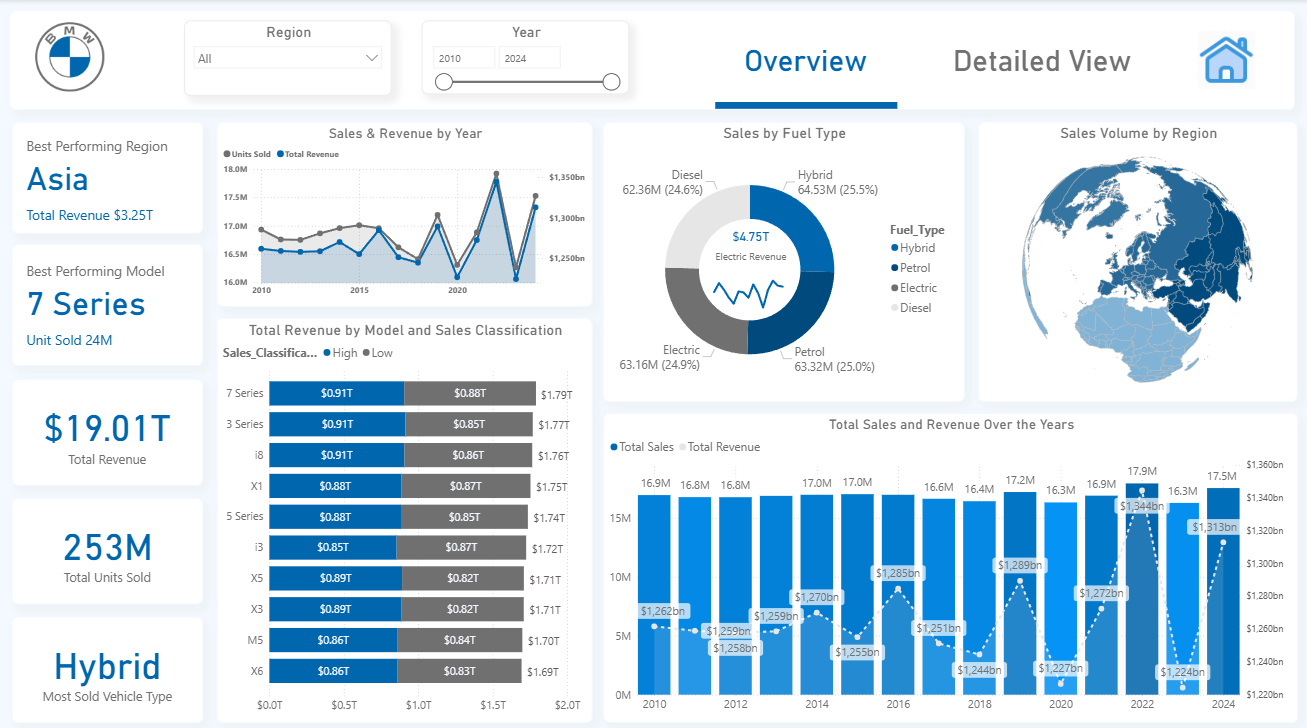

What the dashboard file says about the page in this screenshot:
{"tool":"powerbi","page":{"name":"Overview","canvas":[1920,1080],"ordinal":1},"visuals":[{"type":"lineClusteredColumnComboChart","title":"Total Sales and Revenue Over the Years","fields":{"Category":["BMW_Car_Sales_Classification.Year"],"Y":["Sum(BMW_Car_Sales_Classification.Sales_Volume)"],"Y2":["Measures Table.Total Revenue"]},"box":[885.1,607.2,1020.9,454.9],"z":0},{"type":"lineChart","title":"Sales & Revenue by Year","fields":{"Y":["Sum(BMW_Car_Sales_Classification.Sales_Volume)"],"Category":["BMW_Car_Sales_Classification.Year"],"Y2":["Measures Table.Total Revenue"]},"box":[319,179.1,551.6,271.7],"z":1000},{"type":"barChart","title":"Total Revenue by Model and Sales Classification","fields":{"Category":["BMW_Car_Sales_Classification.Model"],"Series":["BMW_Car_Sales_Classification.Sales_Classification"],"Y":["Measures Table.Total Revenue"]},"box":[319,467.2,551.6,594.9],"z":2000},{"type":"donutChart","title":"Sales by Fuel Type","fields":{"Category":["BMW_Car_Sales_Classification.Fuel_Type"],"Y":["Sum(BMW_Car_Sales_Classification.Sales_Volume)"]},"box":[885.1,179.1,531,411.7],"z":3000},{"type":"lineChart","title":"Sum of Sales_Volume by Year","fields":{"Y":["Sum(BMW_Car_Sales_Classification.Sales_Volume)"],"Category":["BMW_Car_Sales_Classification.Year"]},"box":[1035.3,397.3,137.9,76.2],"z":4000},{"type":"cardVisual","fields":{"Data":["Min(BMW_Car_Sales_Classification.Region)"]},"box":[18.5,179.1,282,164.7],"z":5000},{"type":"card","fields":{"Values":["Measures Table.Total Revenue"]},"box":[18.5,557.8,282,156.4],"z":6000},{"type":"cardVisual","fields":{"Data":["Min(BMW_Car_Sales_Classification.Model)"]},"box":[18.5,360.2,282,179.1],"z":7000},{"type":"card","fields":{"Values":["Measures Table.Total Units Sold"]},"box":[18.5,732.8,282,156.4],"z":8000},{"type":"shape","box":[14.4,16.5,1887.5,146.1],"z":9000},{"type":"card","fields":{"Values":["Min(BMW_Car_Sales_Classification.Fuel_Type)"]},"box":[18.5,905.7,282,156.4],"z":10000},{"type":"image","box":[45.3,28.8,115.3,111.1],"z":11000},{"type":"textbox","box":[1035.3,59.7,298.5,80.3],"z":12000},{"type":"shape","box":[1051.8,111,267.6,88.5],"z":13000},{"type":"textbox","box":[1362.6,59.7,335.5,80.3],"z":14000},{"type":"image","box":[1751.6,35,98.8,109.1],"z":15000},{"type":"card","fields":{"Values":["Measures Table.Total Revenue"]},"box":[1035.3,323.2,137.9,74.1],"z":16000},{"type":"slicer","title":"Year","fields":{"Values":["BMW_Car_Sales_Classification.Year"]},"box":[619.6,30.9,304.6,109.1],"z":17000},{"type":"slicer","title":"Region","fields":{"Values":["BMW_Car_Sales_Classification.Region"]},"box":[271.7,30.9,304.6,111.1],"z":18000},{"type":"shape","box":[1383.2,16.5,298.5,144.1],"z":19000},{"type":"shapeMap","title":"Sales Volume by Region","fields":{"Category":["BMW_Car_Sales_Classification.Region"],"Value":["Measures Table.Total Units Sold"]},"box":[1436.7,179.1,469.3,411.7],"z":20000}]}

Visuals, with their boxes in screenshot pixels (x1, y1, x2, y2), scaled from the page's 1920x1080 canvas onto the 1307x728 screenshot:
"Total Sales and Revenue Over the Years" lineClusteredColumnComboChart: (x1=603, y1=409, x2=1297, y2=716)
"Sales & Revenue by Year" lineChart: (x1=217, y1=121, x2=593, y2=304)
"Total Revenue by Model and Sales Classification" barChart: (x1=217, y1=315, x2=593, y2=716)
"Sales by Fuel Type" donutChart: (x1=603, y1=121, x2=964, y2=398)
"Sum of Sales_Volume by Year" lineChart: (x1=705, y1=268, x2=799, y2=319)
cardVisual - Min(BMW_Car_Sales_Classification.Region): (x1=13, y1=121, x2=205, y2=232)
card - Measures Table.Total Revenue: (x1=13, y1=376, x2=205, y2=481)
cardVisual - Min(BMW_Car_Sales_Classification.Model): (x1=13, y1=243, x2=205, y2=364)
card - Measures Table.Total Units Sold: (x1=13, y1=494, x2=205, y2=599)
shape: (x1=10, y1=11, x2=1295, y2=110)
card - Min(BMW_Car_Sales_Classification.Fuel_Type): (x1=13, y1=611, x2=205, y2=716)
image: (x1=31, y1=19, x2=109, y2=94)
textbox: (x1=705, y1=40, x2=908, y2=94)
shape: (x1=716, y1=75, x2=898, y2=134)
textbox: (x1=928, y1=40, x2=1156, y2=94)
image: (x1=1192, y1=24, x2=1260, y2=97)
card - Measures Table.Total Revenue: (x1=705, y1=218, x2=799, y2=268)
"Year" slicer: (x1=422, y1=21, x2=629, y2=94)
"Region" slicer: (x1=185, y1=21, x2=392, y2=96)
shape: (x1=942, y1=11, x2=1145, y2=108)
"Sales Volume by Region" shapeMap: (x1=978, y1=121, x2=1297, y2=398)
